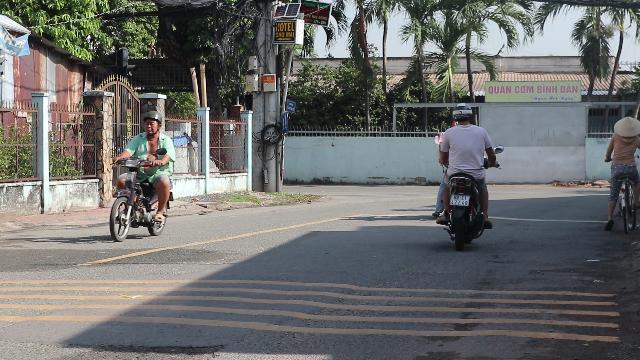helmet: (140, 110, 162, 136), (452, 103, 474, 125)
licenseplate: (450, 195, 468, 206)
motorcyclist: (430, 102, 498, 248), (105, 109, 175, 241)
